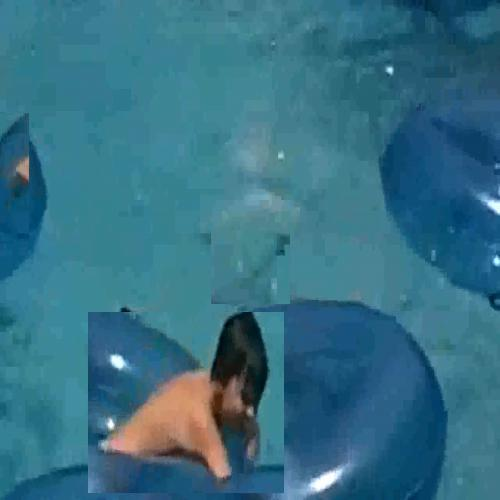drowning: (211, 230, 291, 305)
swimming: (88, 312, 285, 494), (0, 113, 30, 242)
